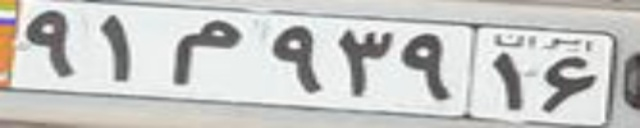1: (95, 14, 133, 81), (491, 53, 524, 110)
3: (335, 29, 394, 96)
6: (539, 54, 600, 112)
9: (268, 24, 321, 94), (23, 10, 75, 77), (401, 32, 449, 100)
mim: (172, 19, 243, 86)
